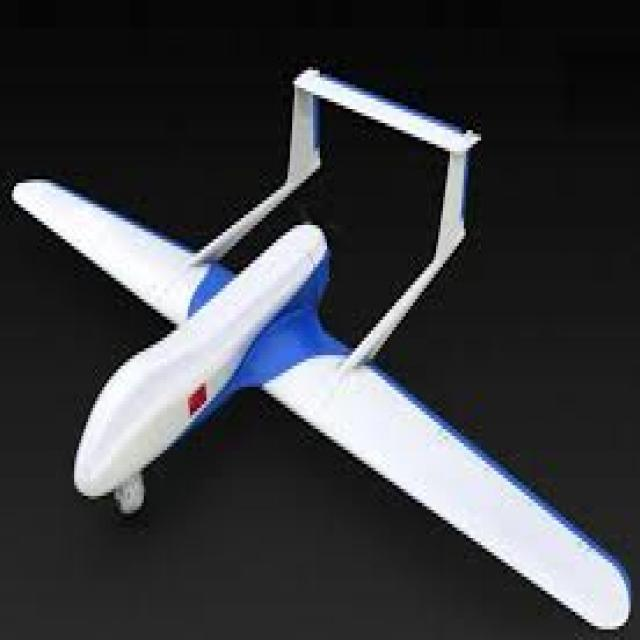iha: (18, 76, 592, 624)
